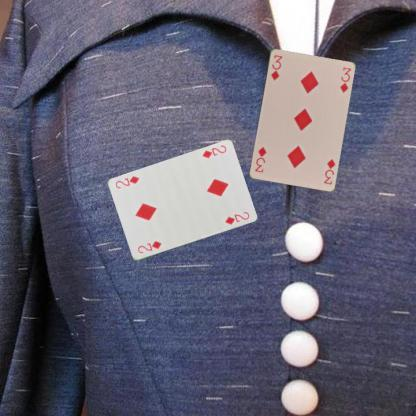2d: (199, 142, 228, 160), (135, 238, 163, 254)
3d: (268, 52, 283, 81), (321, 156, 336, 185)
